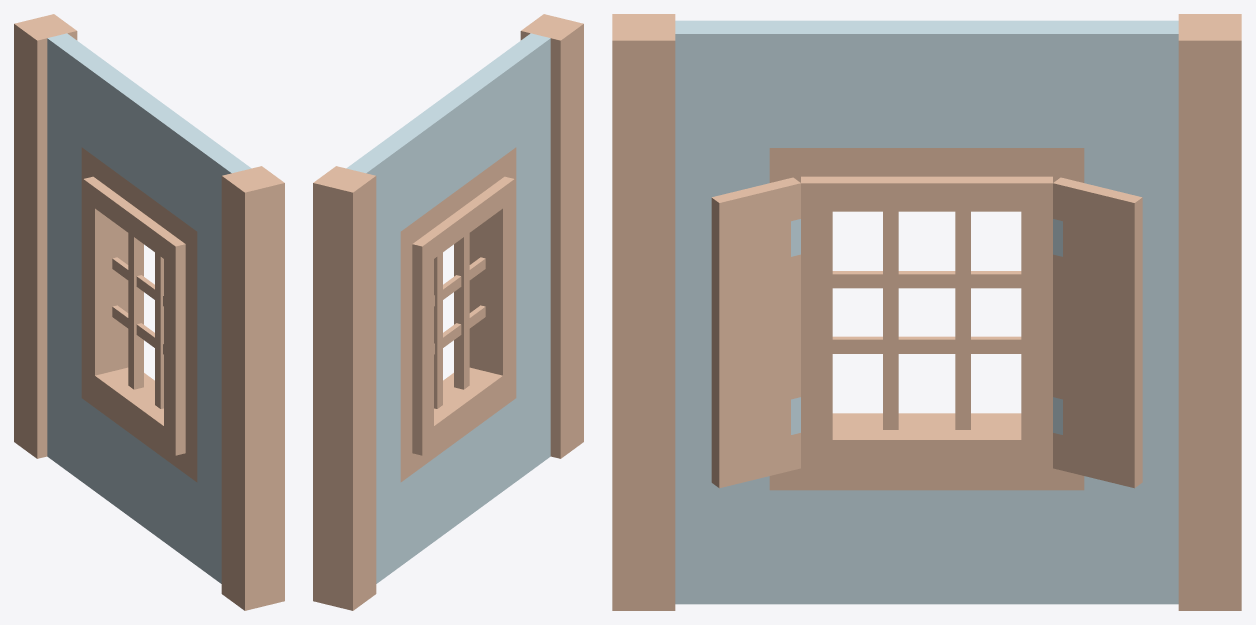
The model's file is wallWindowShutters.fbx.
3 renders of one model, left to right at view 1: azimuth 30°, elevation 25°; view 2: azimuth 150°, elevation 25°; view 3: azimuth 270°, elevation 25°, orthographic. The views are drawn at different scales.
Visible parts, largest first — view 1: wallWindowShutters, detail.001; view 2: wallWindowShutters, detail.001; view 3: wallWindowShutters, shutter.001, shutter, detail.001.
Boxes of the visible parts, box(x1,y1,x2,y2) form: wallWindowShutters: box(14, 14, 284, 610); detail.001: box(112, 233, 163, 408); wallWindowShutters: box(313, 14, 583, 610); detail.001: box(434, 233, 485, 408); wallWindowShutters: box(612, 14, 1241, 610); shutter.001: box(711, 177, 800, 488); shutter: box(1053, 177, 1142, 488); detail.001: box(832, 211, 1021, 429).
Size of the model in its own units: 17.5 by 100 by 100.
